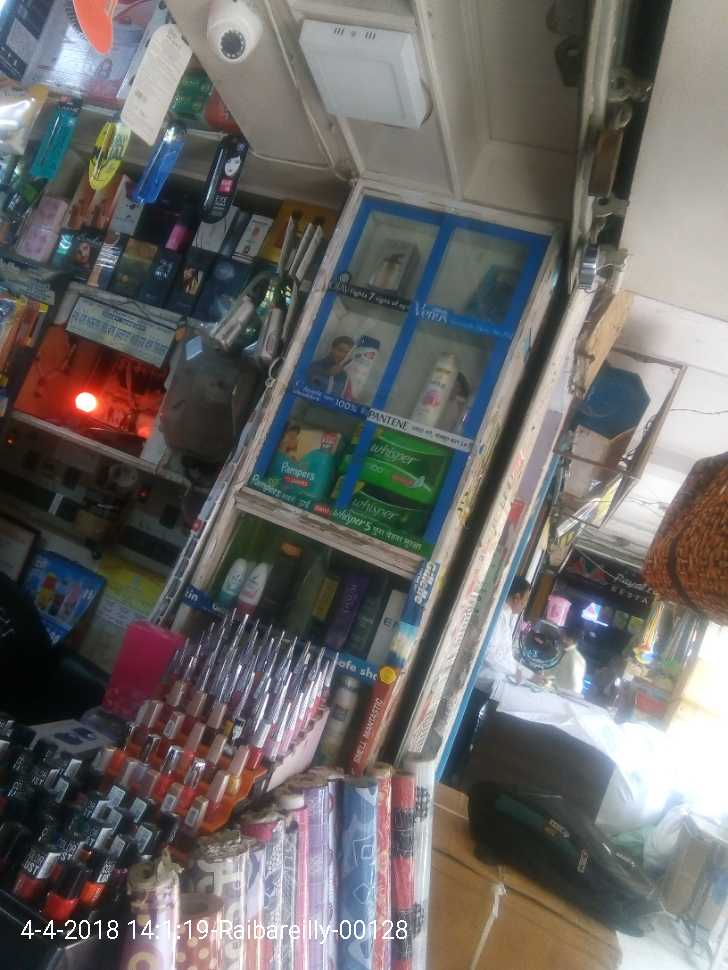venus: (466, 262, 529, 319)
